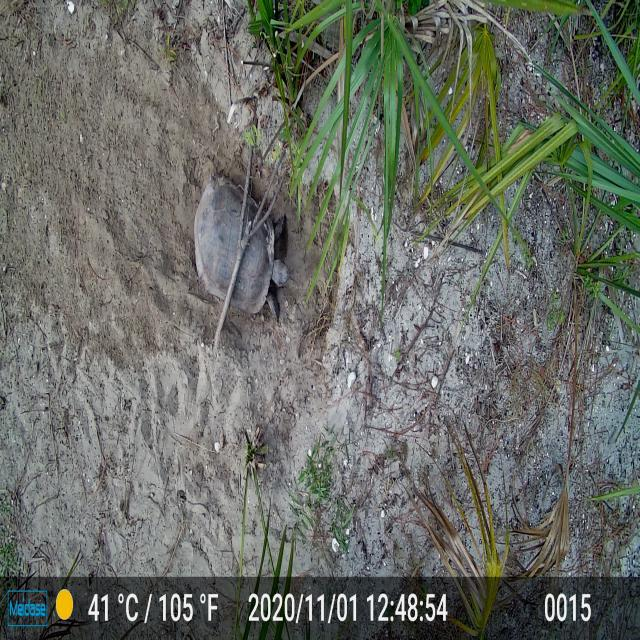tortoise: (188, 170, 295, 330)
